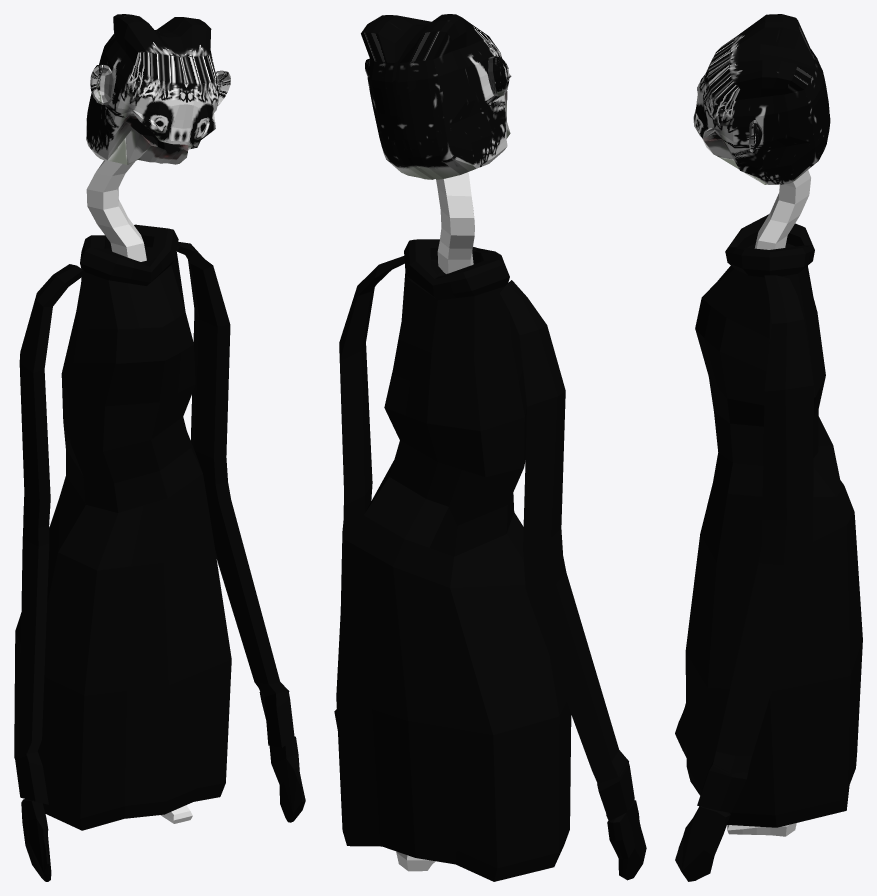
File: monster.glb
3 views of the same model, side by side, from view 1: azimuth 30°, elevation 25°; view 2: azimuth 150°, elevation 25°; view 3: azimuth 270°, elevation 25° (orthographic). The views are drawn at different scales.
Visible parts, largest first — view 1: Cube, Cylinder.001, Cube.001, Cylinder.002; view 2: Cube, Cylinder.001, Cube.001, Cylinder.002; view 3: Cube, Cylinder.001, Cube.001, Cylinder.002, Cylinder.
Boxes of the visible parts, bbox=[...] form: Cube: bbox=[14, 224, 231, 830]; Cylinder.001: bbox=[15, 242, 305, 881]; Cube.001: bbox=[86, 14, 230, 164]; Cylinder.002: bbox=[86, 160, 146, 261]; Cube: bbox=[336, 239, 571, 881]; Cylinder.001: bbox=[334, 256, 646, 880]; Cube.001: bbox=[361, 14, 511, 179]; Cylinder.002: bbox=[436, 172, 474, 273]; Cube: bbox=[685, 214, 862, 827]; Cylinder.001: bbox=[675, 266, 813, 881]; Cube.001: bbox=[693, 14, 830, 184]; Cylinder.002: bbox=[754, 170, 810, 249]; Cylinder: bbox=[727, 823, 796, 836].
Bounding box in the file's own units: 2.12 × 6.08 × 1.28.
3 materials, 1 textured.
